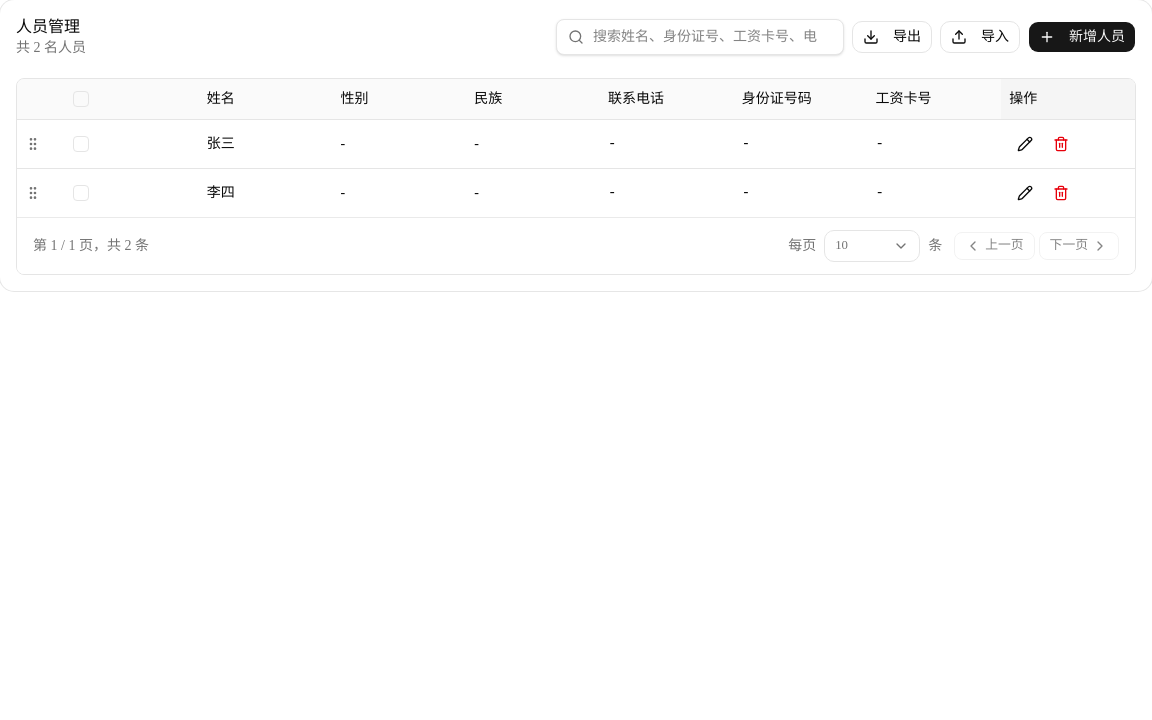
Scenario: PersonnelPage › drops selected ids after a selected person is deleted
The image size is (1152, 720).
Click the checkbox named "选择" next to "张三": (81, 144) [73,136,89,152]
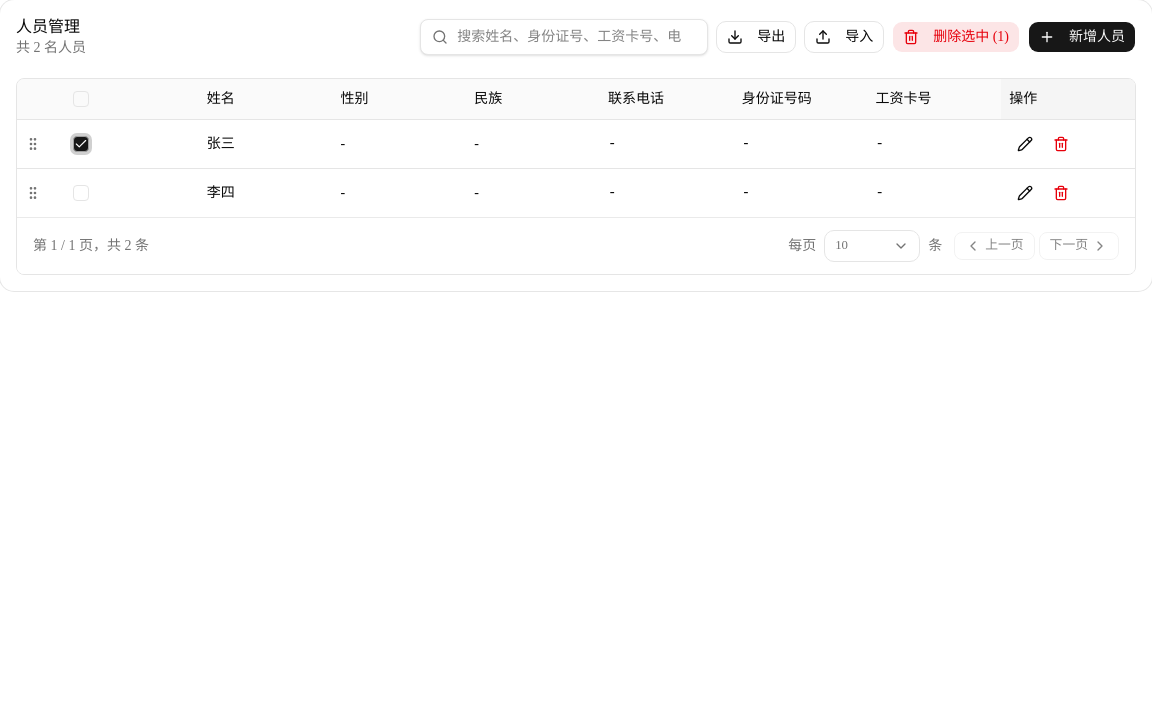
Expected: the button "删除选中 (1)" is shown, [892,21,1020,53]
Click the button named "删除 张三": (1061, 144) [1045,128,1077,160]
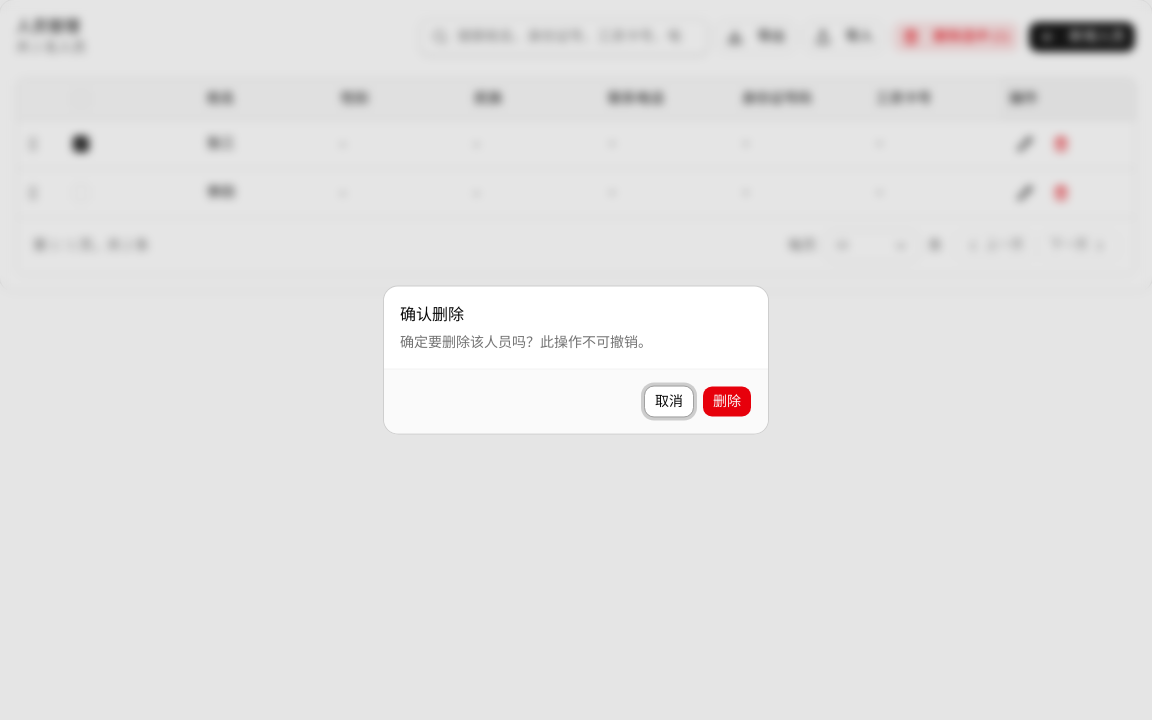
Click the button "删除": (727, 402) [702,386,752,418]
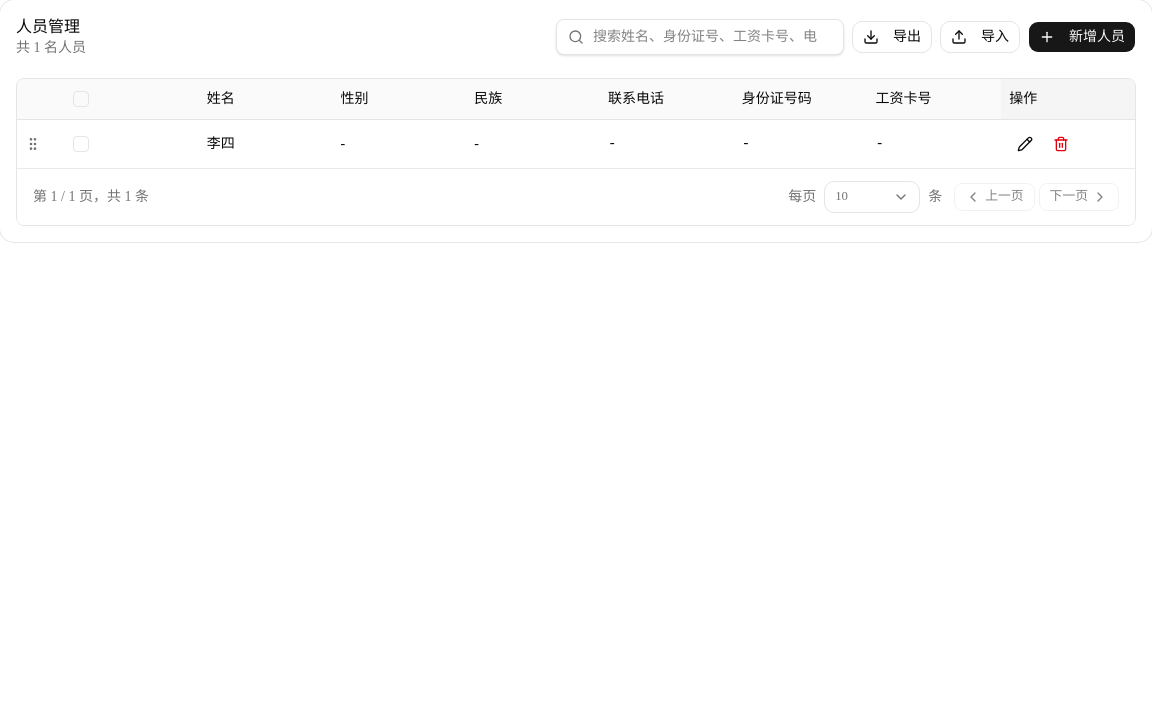
Expected: the button "删除选中" is gone
